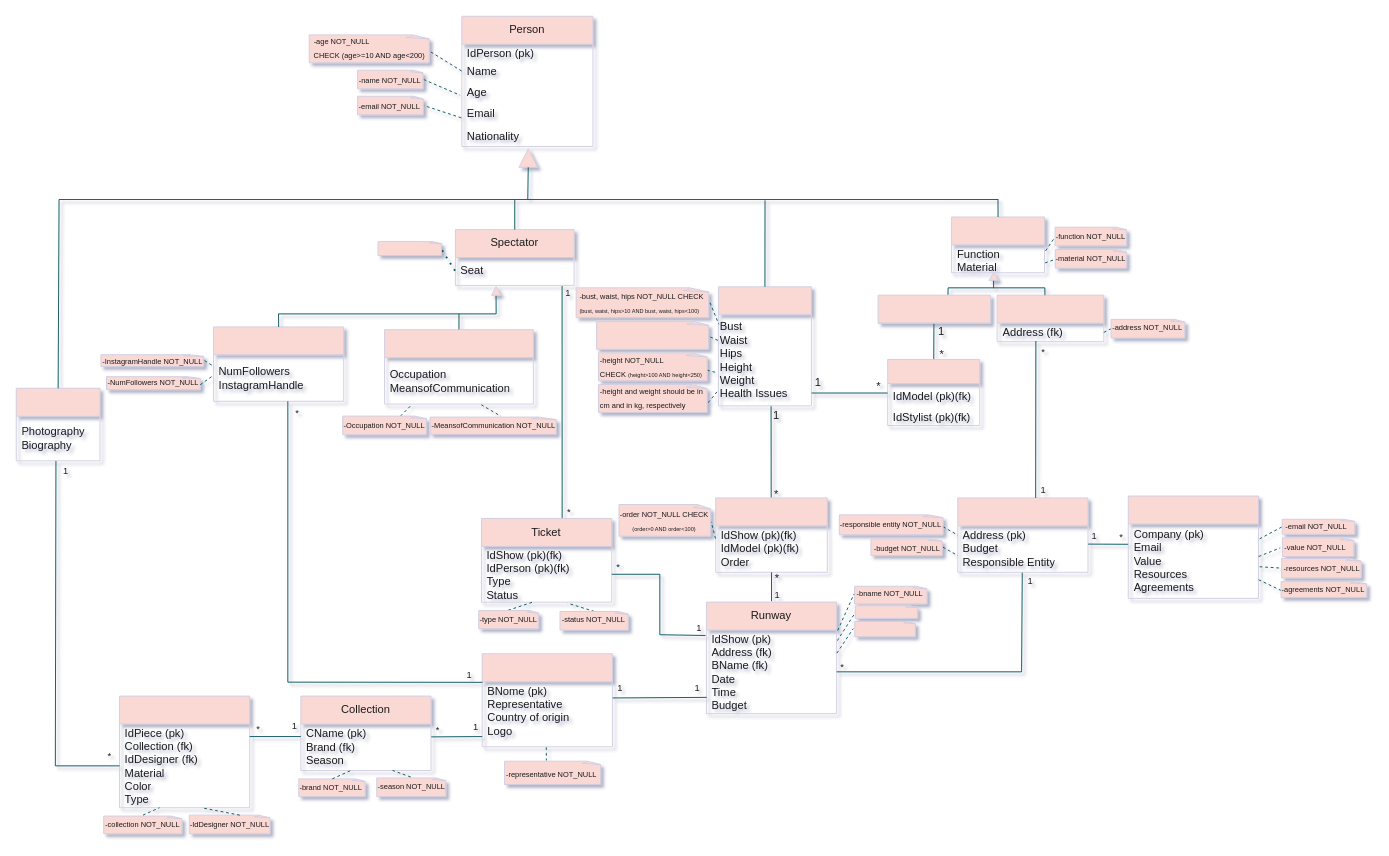
Image size: 1389x856. Some labels were removed from this diagram. The box of each missing label's shape, as (x1, y1, x2, y2) in pixels:
-date NOT_NULL: (854, 605, 918, 618)
-seat NOT_NULL: (377, 241, 442, 255)
-time NOT_NULL: (854, 621, 916, 637)
-weight NOT_NULL CHECK (weight > 10 AND weight <1000): (596, 320, 710, 349)
Brand: (481, 653, 612, 747)
Designer: (15, 387, 100, 461)
Event: (957, 497, 1088, 572)
Influencer: (213, 326, 344, 401)
Local Technician: (996, 294, 1104, 342)
Media: (384, 329, 533, 404)
Model: (717, 286, 811, 406)
Model_Runway: (715, 497, 827, 572)
Model_Stylist: (887, 359, 980, 425)
Piece of Clothing: (119, 695, 250, 808)
Sponsor: (1127, 495, 1258, 598)
Styling Technician: (877, 294, 991, 323)
Technician: (951, 216, 1045, 273)
